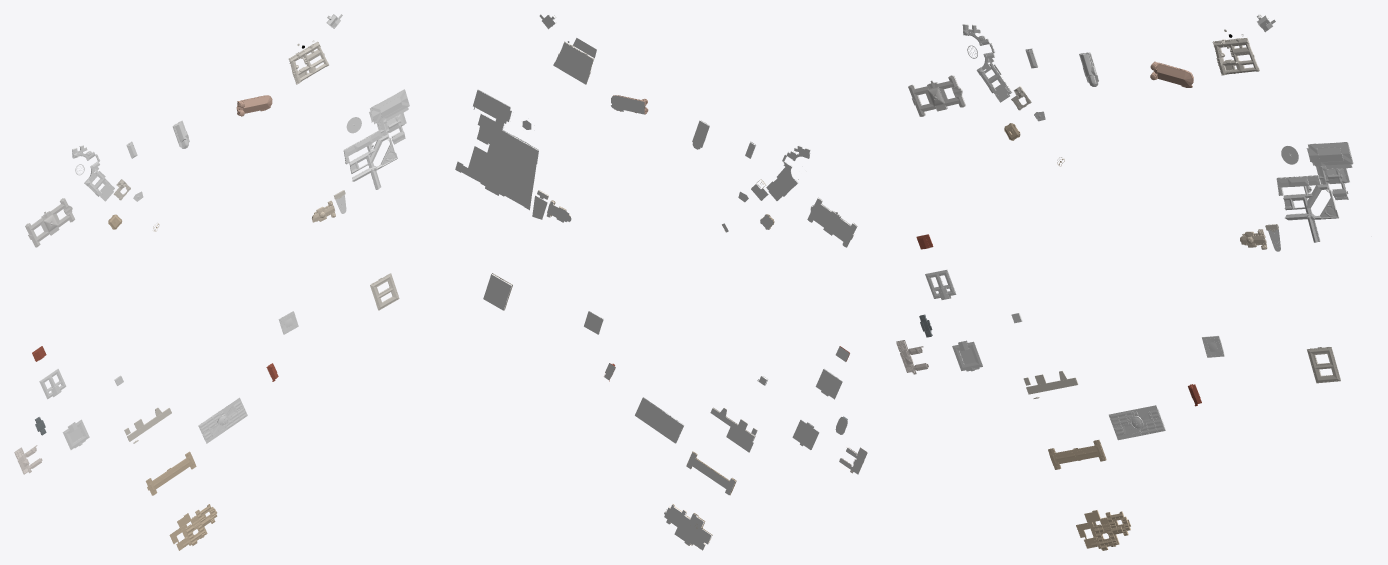
The picture shows the model from 3 angles, left to right: view 1: azimuth 30°, elevation 25°; view 2: azimuth 150°, elevation 25°; view 3: azimuth 330°, elevation 25°; orthographic projection. The views are drawn at different scales.
Size of the model in its own units: 6710 by 7756 by 101.
